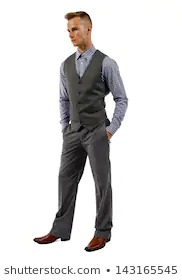F_dress pants: (56, 115, 119, 235)
F_shirt: (54, 43, 129, 140)
